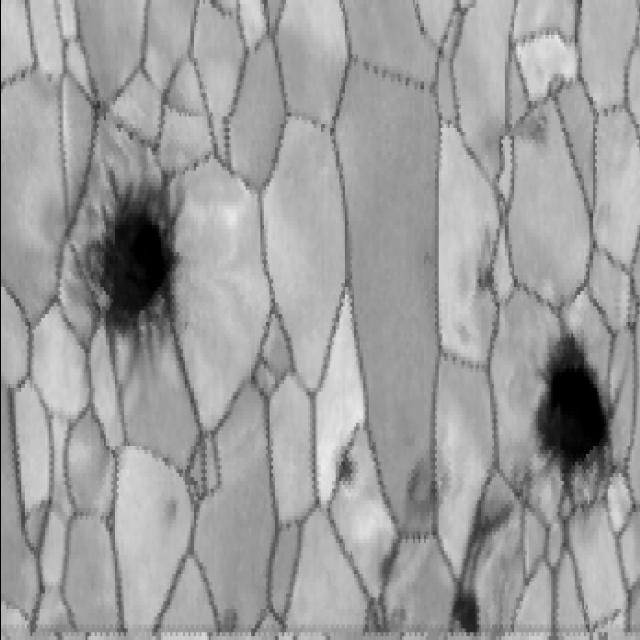good_void: (62, 173, 197, 386), (536, 328, 579, 471), (465, 494, 522, 576), (399, 442, 449, 523), (470, 247, 500, 311), (375, 528, 402, 592), (515, 105, 552, 147), (214, 586, 241, 639), (159, 482, 185, 534), (456, 588, 481, 640), (88, 81, 112, 135), (334, 450, 357, 484), (421, 243, 432, 269)
